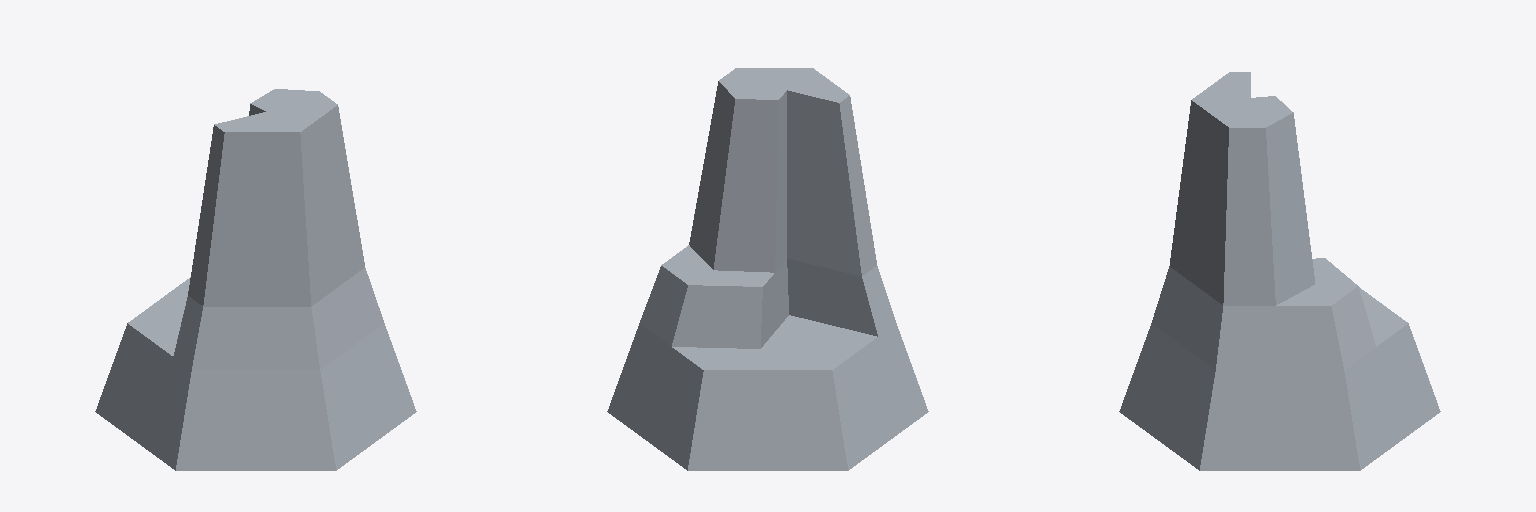
3 renders of one model, left to right at view 1: azimuth 30°, elevation 25°; view 2: azimuth 150°, elevation 25°; view 3: azimuth 270°, elevation 25°, orthographic.
Parts seen in each view (by area): view 1: Mesh1 Tall_Rock_3 Model; view 2: Mesh1 Tall_Rock_3 Model; view 3: Mesh1 Tall_Rock_3 Model.
Boxes of the visible parts, box(x1,y1,x2,y2) form: Mesh1 Tall_Rock_3 Model: box(95, 89, 416, 470); Mesh1 Tall_Rock_3 Model: box(607, 68, 928, 470); Mesh1 Tall_Rock_3 Model: box(1119, 72, 1440, 470).
Bounding box in the file's own units: 1.59 × 1.97 × 1.84.
Materials: 1 (1 with a texture image).